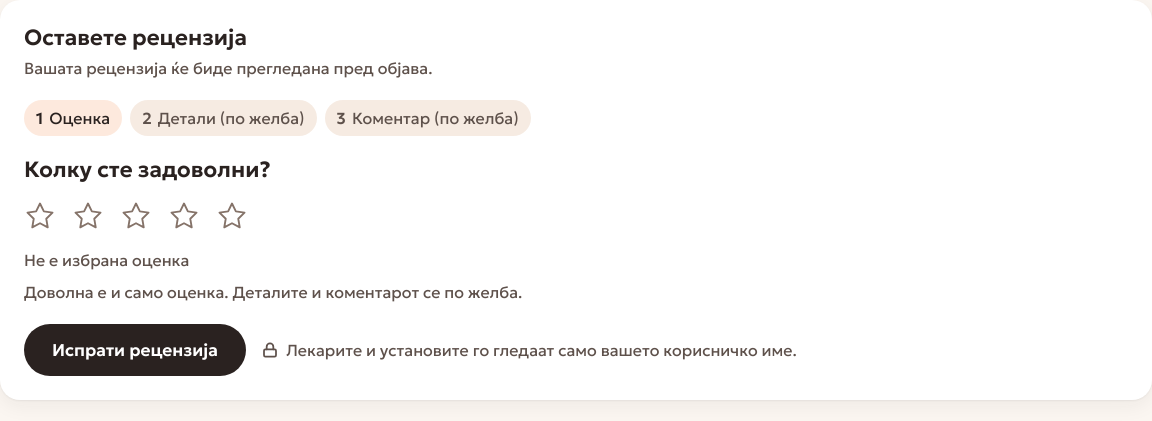
it: ReviewForm › refuses to submit without a rating and says why
This screenshot has width=1152, height=421.
What coordinates should you click on to do the following:
click the button "Испрати рецензија"
I would click on:
 (135, 350)
Its box is [24,324,246,376].
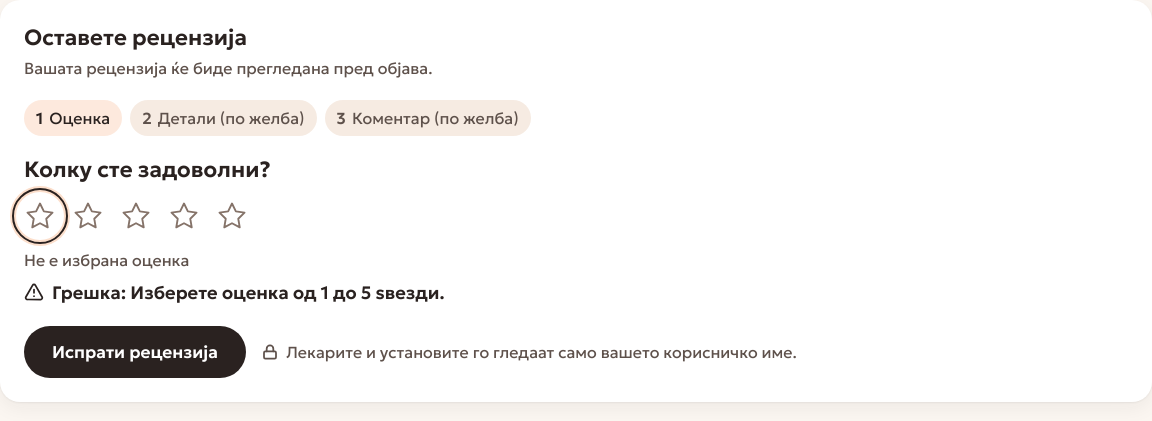
Expected: the message shows "Изберете оценка од 1 до 5 ѕвезди.", [130,281,444,304]
